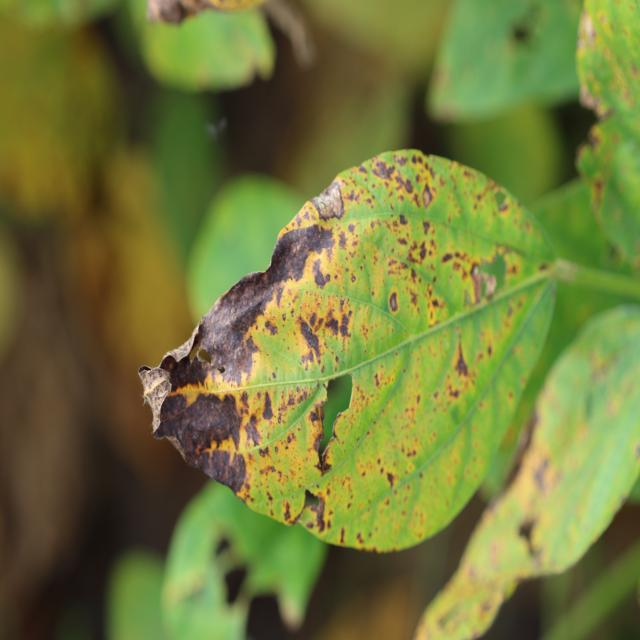Bacterial_Blight: (321, 303, 525, 543), (266, 286, 364, 371), (171, 397, 253, 489), (204, 268, 277, 339), (435, 242, 508, 310), (273, 233, 338, 270), (312, 186, 352, 224), (310, 255, 333, 289), (453, 340, 471, 379), (422, 185, 433, 207)
Soybean: (140, 151, 561, 551)
